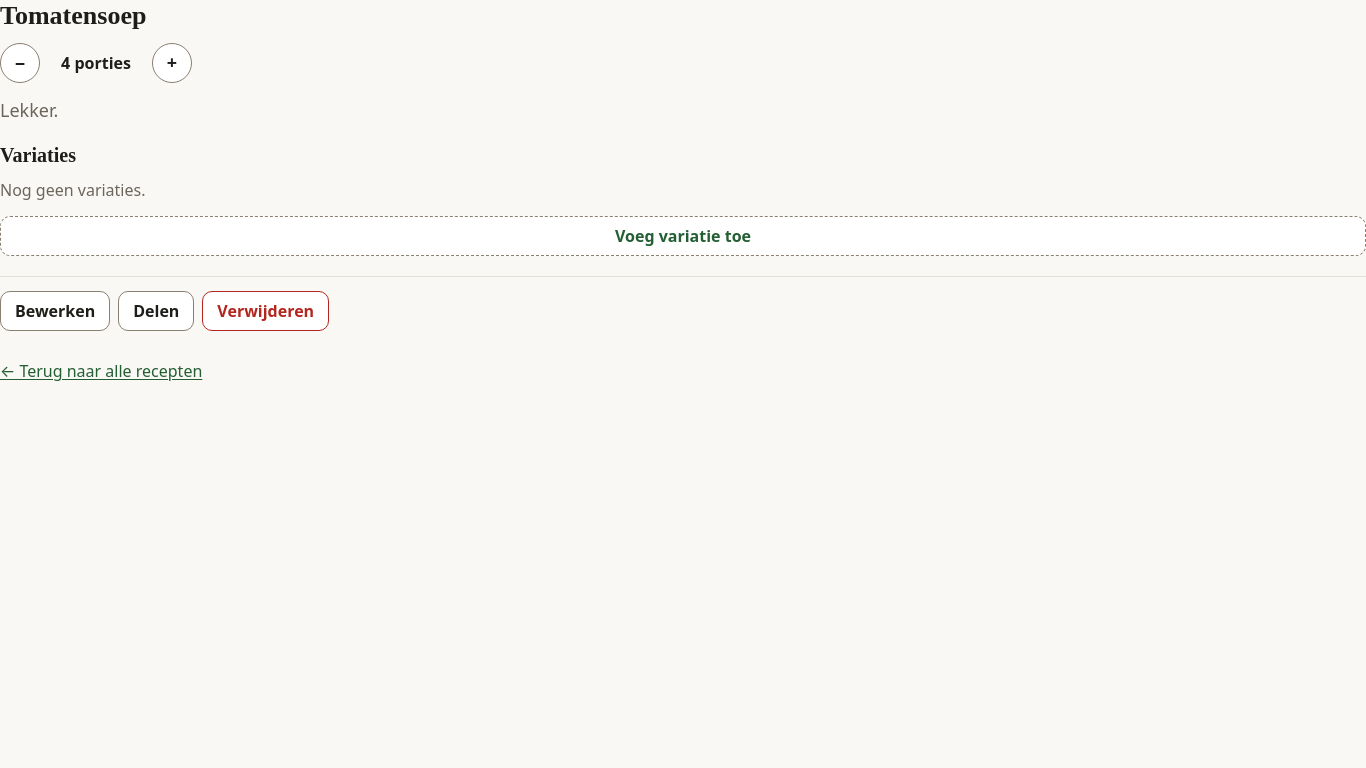
RecipeDetailView › verwijderen aanvragen › stuurt de reden mee, en toont het overzicht met een melding
The image size is (1366, 768).
Click the button with class "delete" at (266, 312), box left=202, top=292, right=329, bottom=332
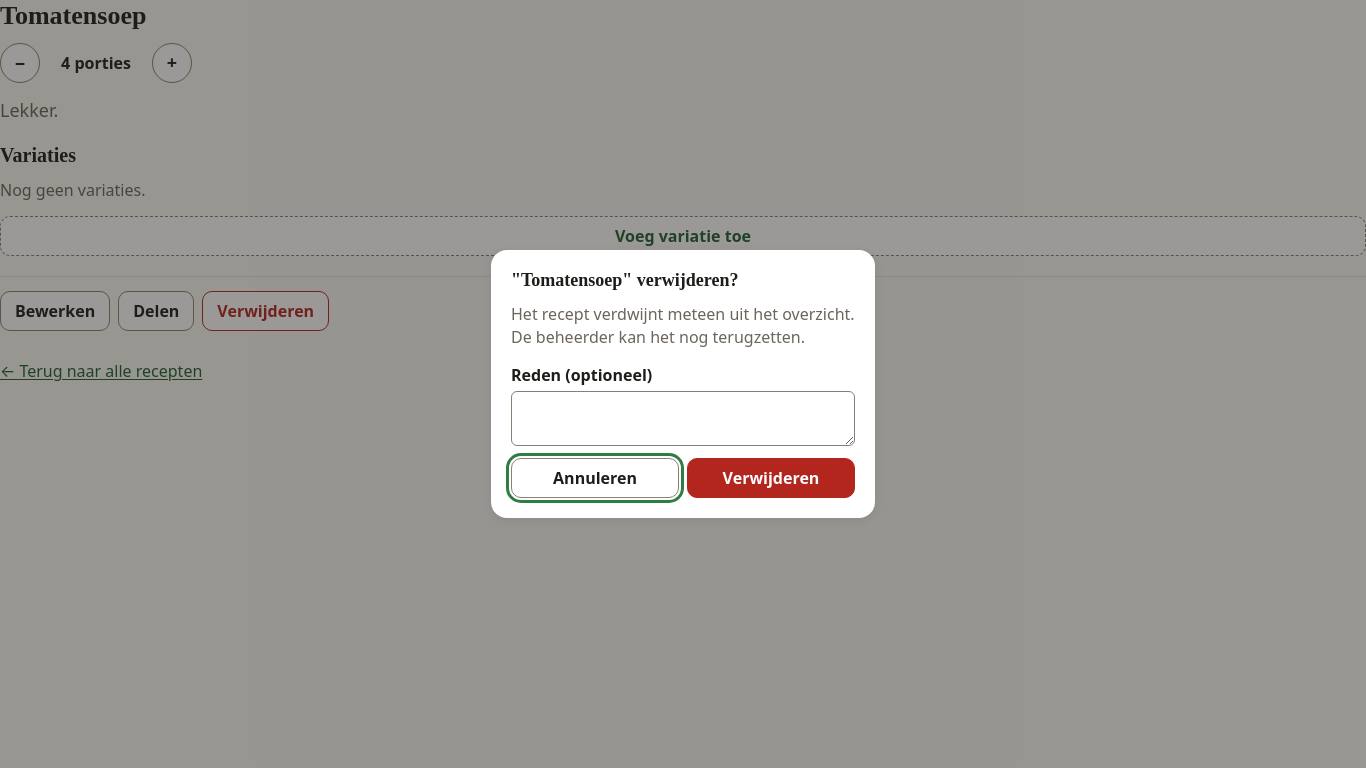
Type "  staat er dubbel in " into the text box labelled "Reden (optioneel)" at (683, 419), box left=511, top=391, right=855, bottom=446
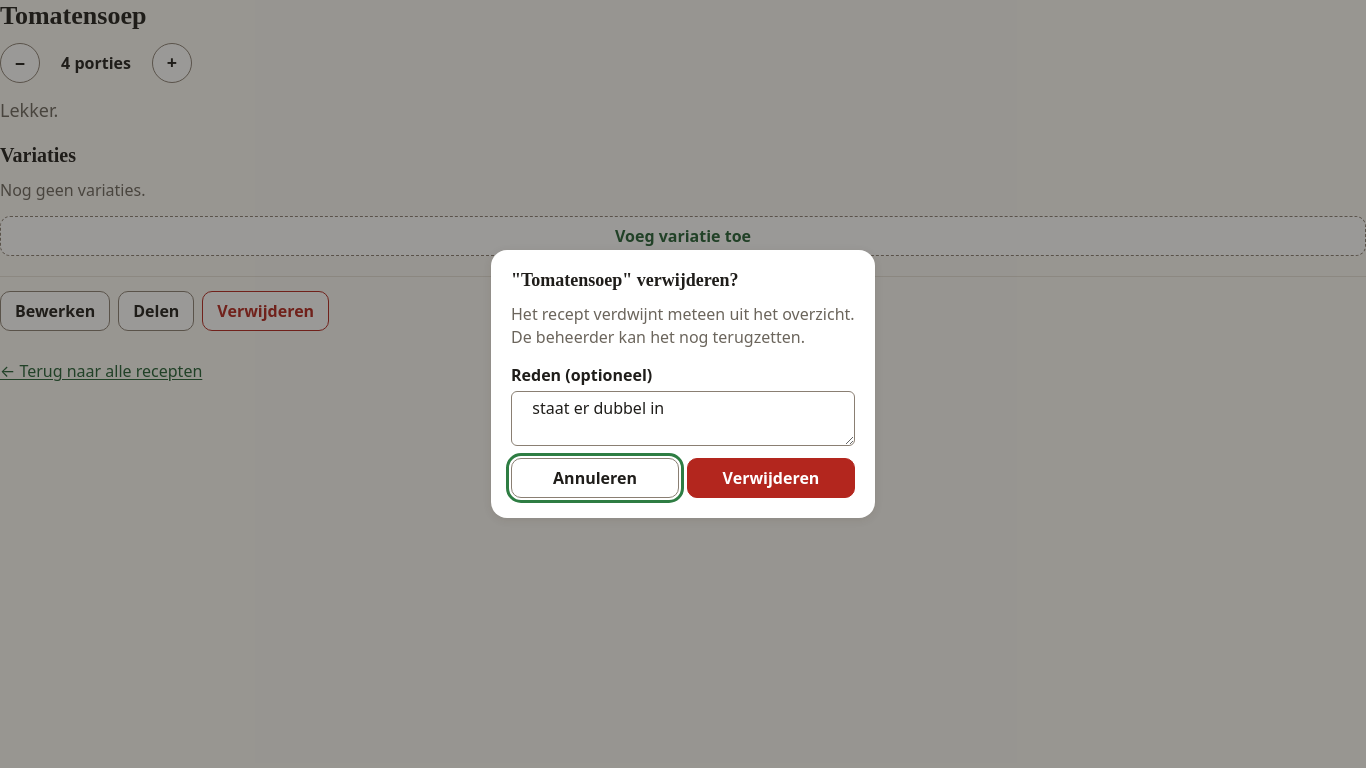
Click the button with class "confirm" at (771, 478), box left=687, top=458, right=855, bottom=498
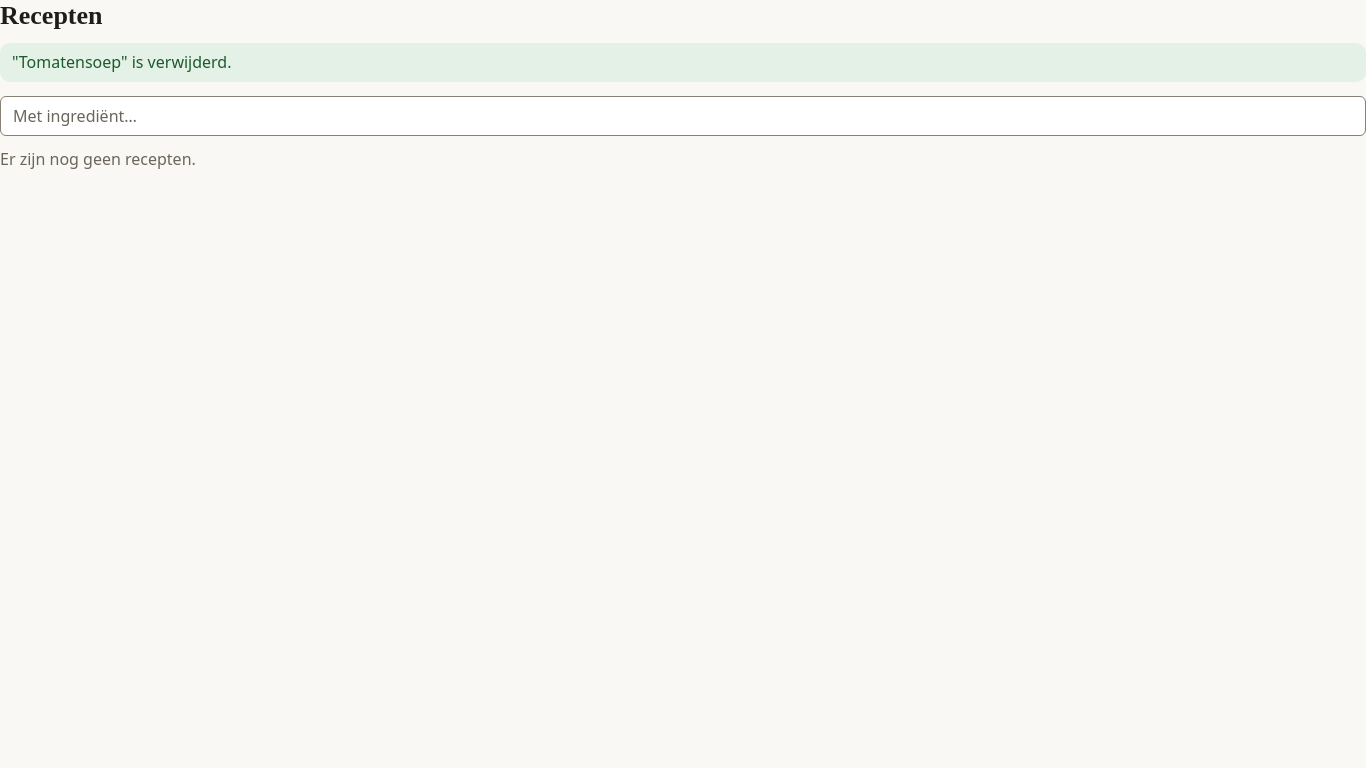
Now the message "\"Tomatensoep\" is verwijderd." reads "\"Tomatensoep\" is verwijderd.", box left=12, top=51, right=232, bottom=73
